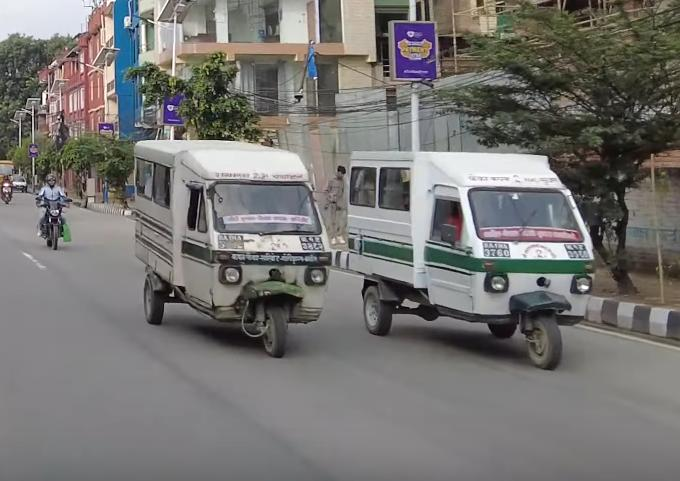bike: (34, 191, 72, 256)
tempo: (352, 144, 599, 366), (124, 135, 333, 364)
